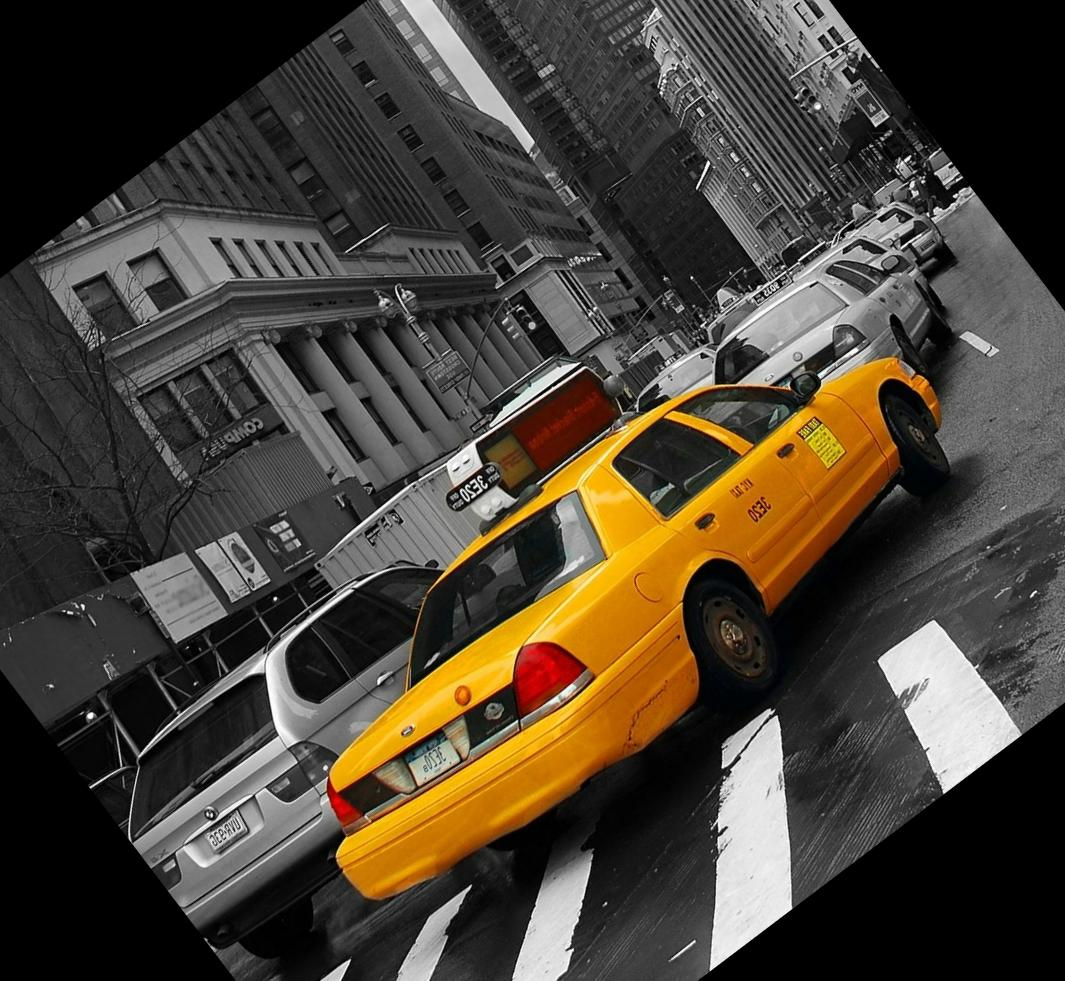taxi: (333, 327, 944, 907)
